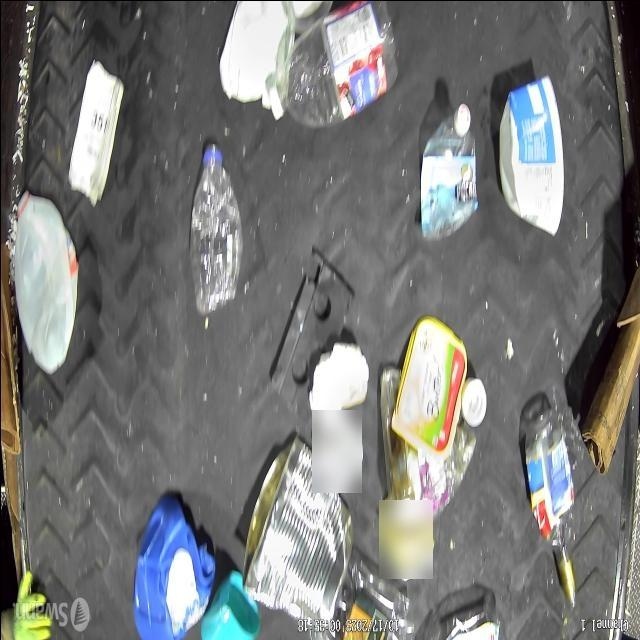milk_jug: (11, 195, 78, 374)
non_white_jug: (133, 494, 215, 638)
plastic_bottle: (269, 1, 394, 128), (524, 408, 576, 608), (188, 142, 243, 312), (418, 101, 476, 242)
